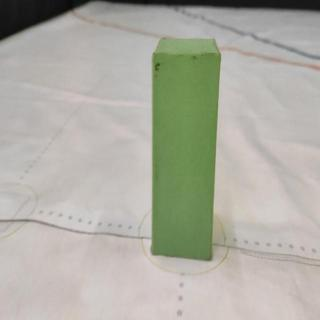greenbox: (150, 38, 222, 263)
